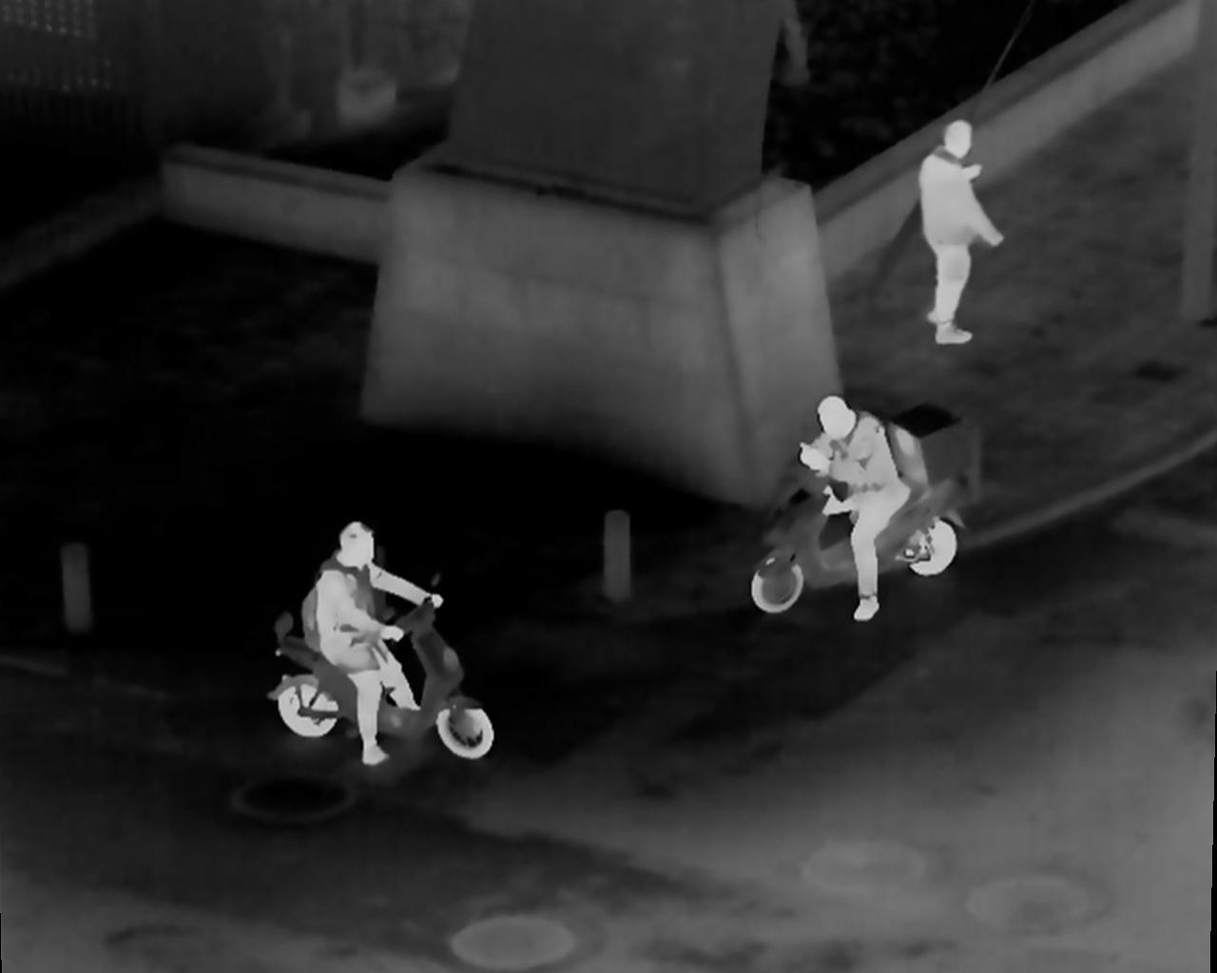person: (813, 394, 936, 641), (312, 523, 433, 756), (911, 112, 1016, 360)
